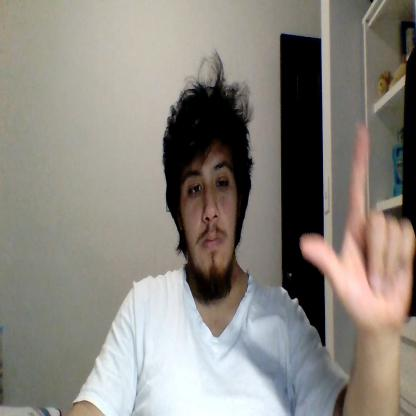L: (300, 124, 416, 332)
